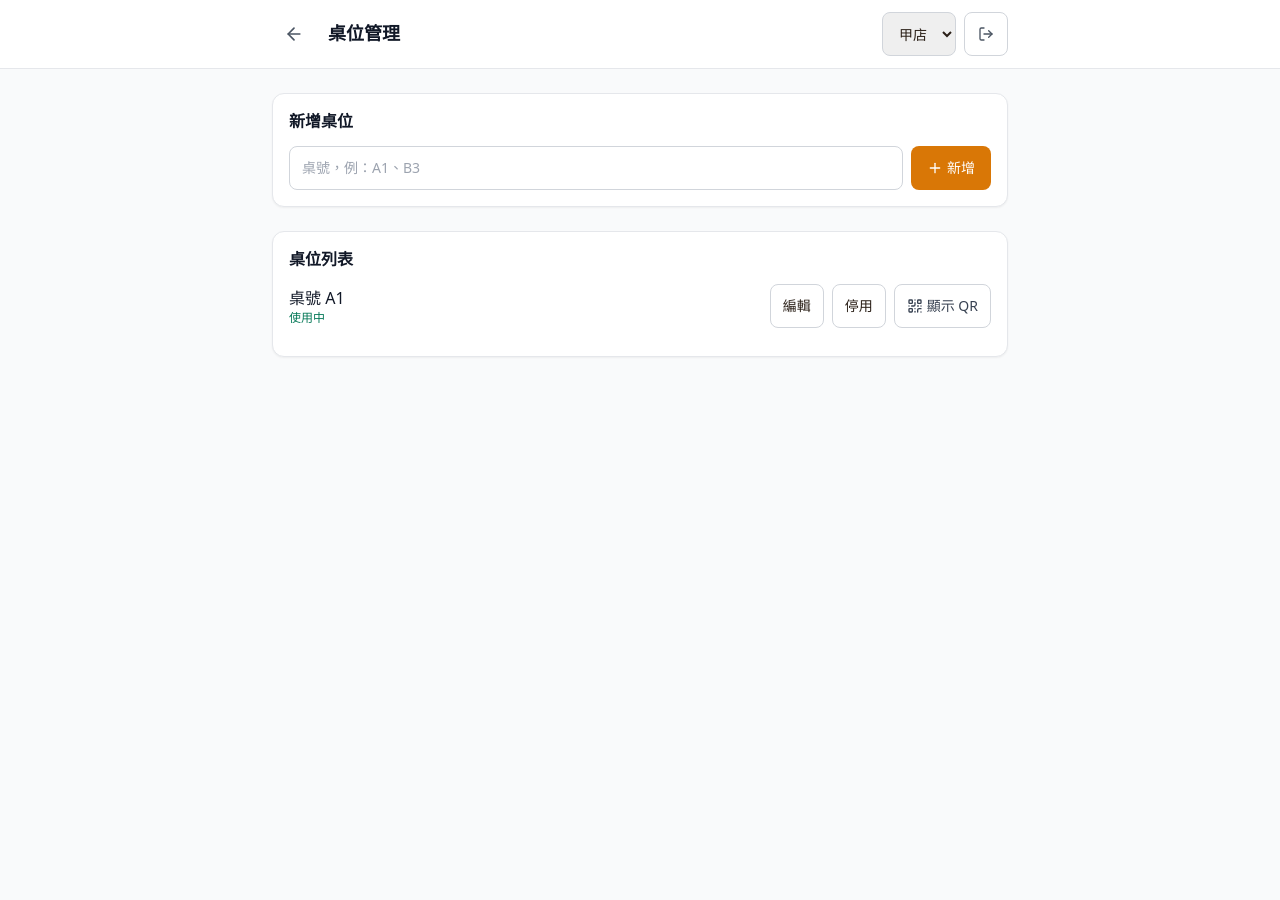
桌位編輯與停用 › 寫入結果不明時鎖住操作，必須重新讀取並明確確認
This screenshot has width=1280, height=900.
Click the button with aria-label "停用桌號 A1".
click(859, 306)  # box 832,284 -> 886,328
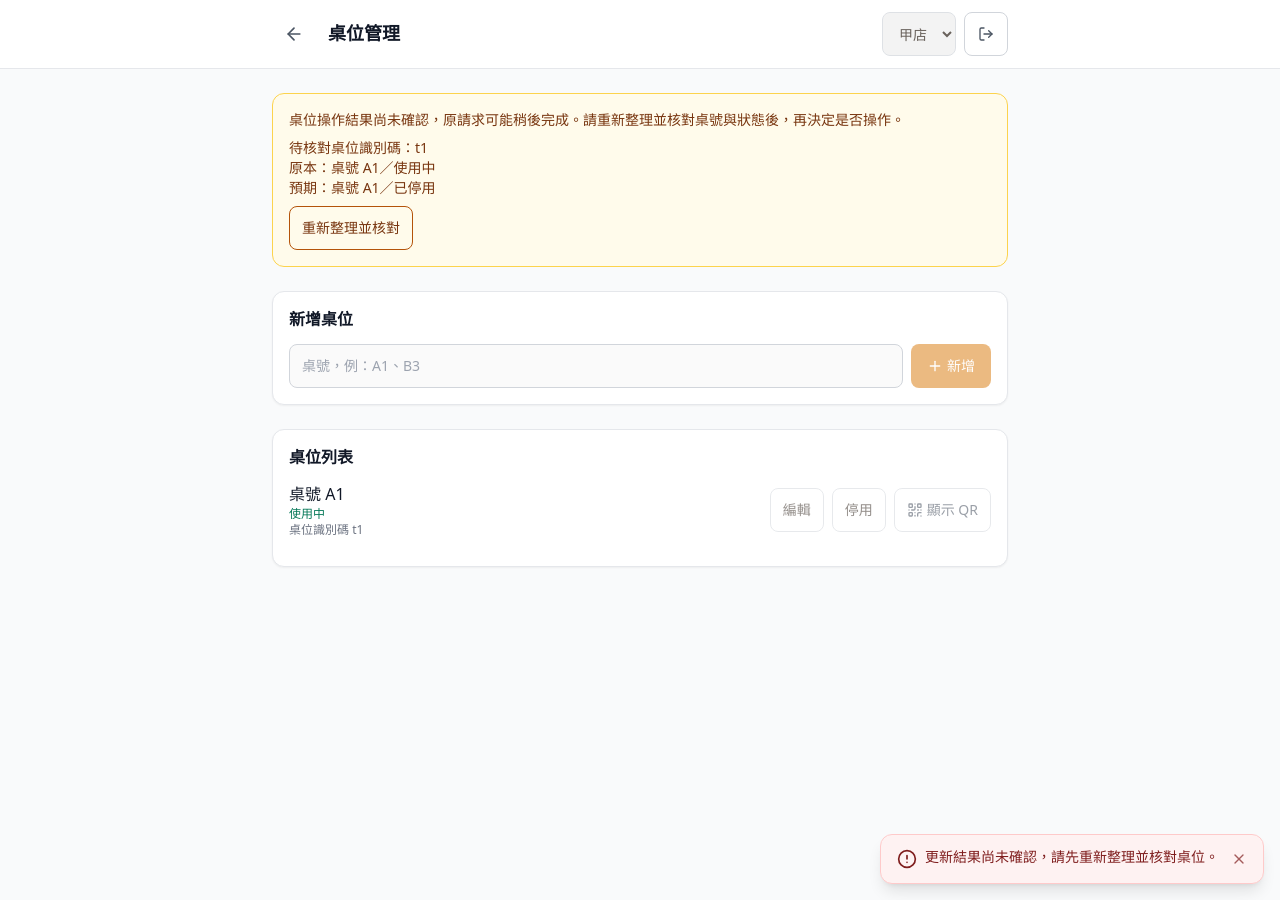
Expected: the button with aria-label "停用桌號 A1" is disabled, 832,488 -> 886,532
Click the button "重新整理並核對".
click(351, 228)  # box 289,206 -> 413,250
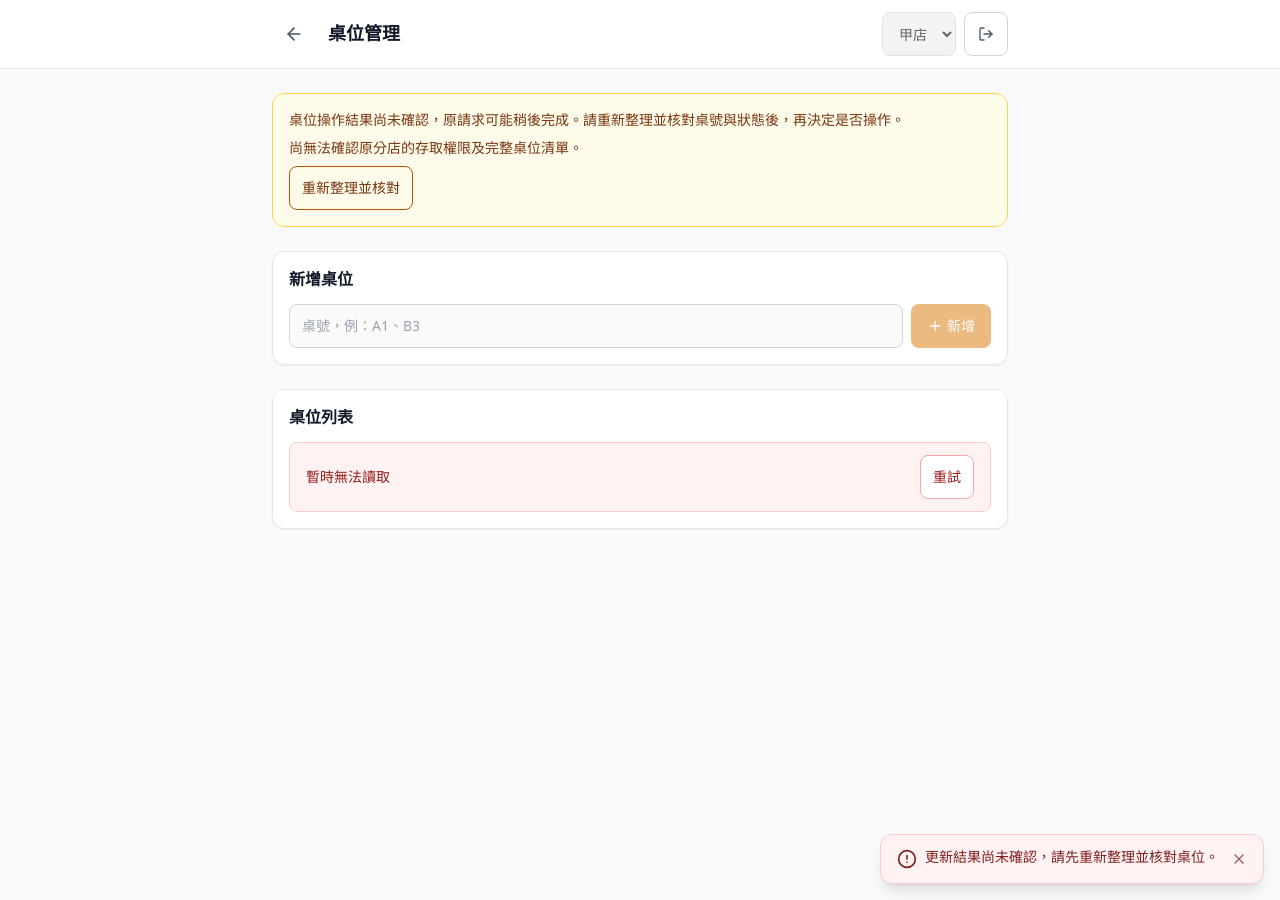
Expected: the button "已核對，允許操作" is not shown
Expected: the text "暫時無法讀取" is shown, 306,467 -> 390,487
Click the button "重新整理並核對".
click(351, 188)  # box 289,166 -> 413,210
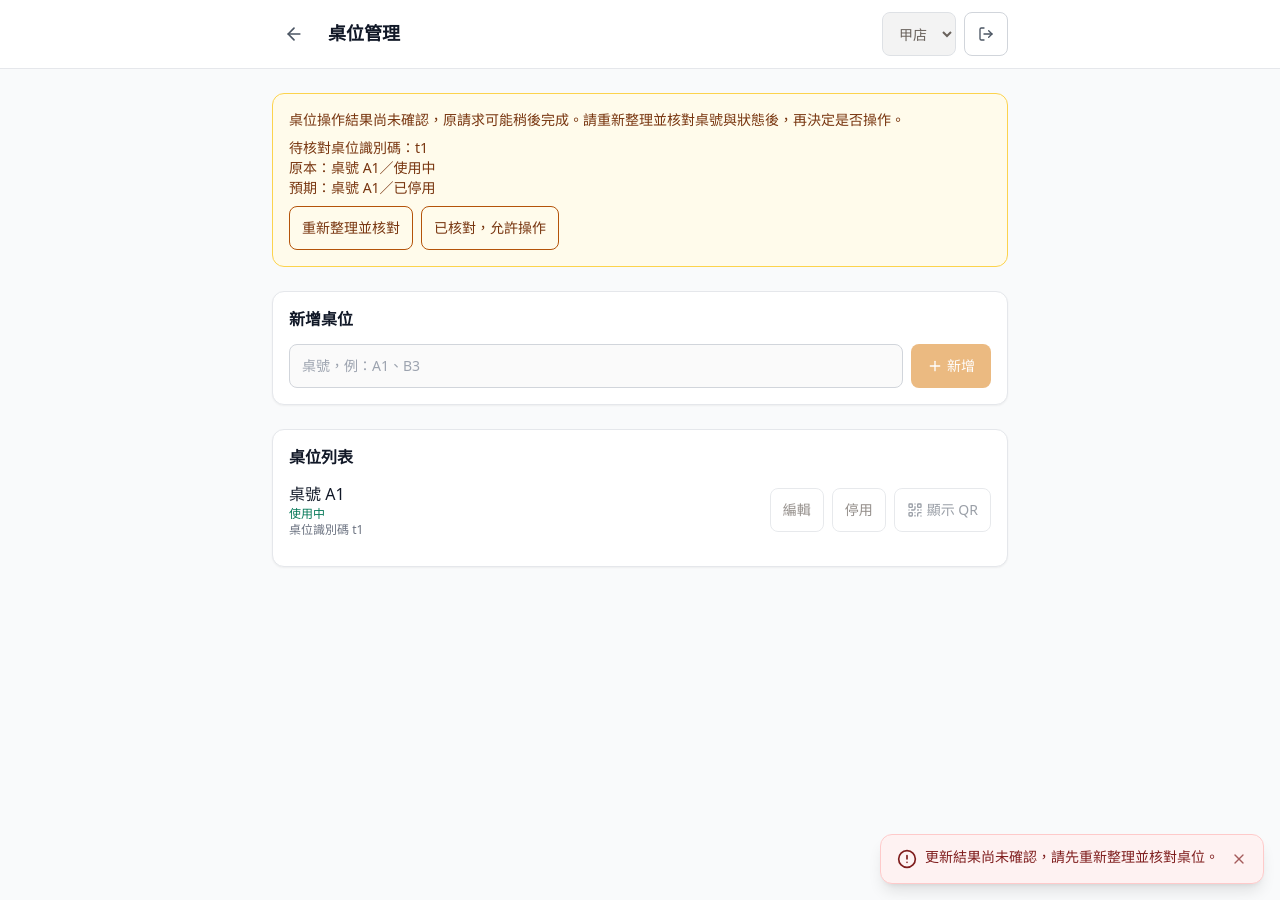
Click the button "已核對，允許操作".
click(490, 228)  # box 421,206 -> 559,250
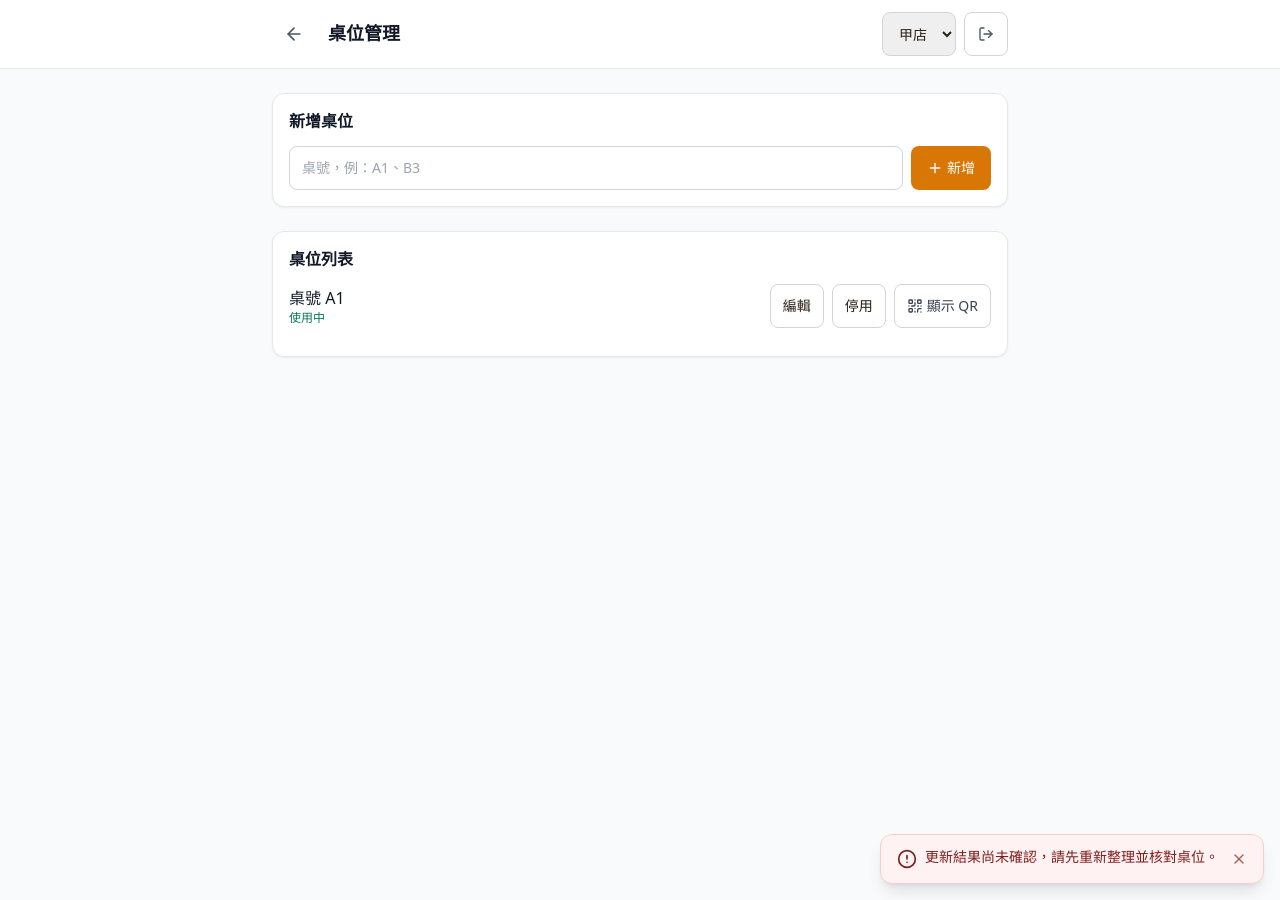
Expected: the button with aria-label "停用桌號 A1" is enabled, 832,284 -> 886,328
